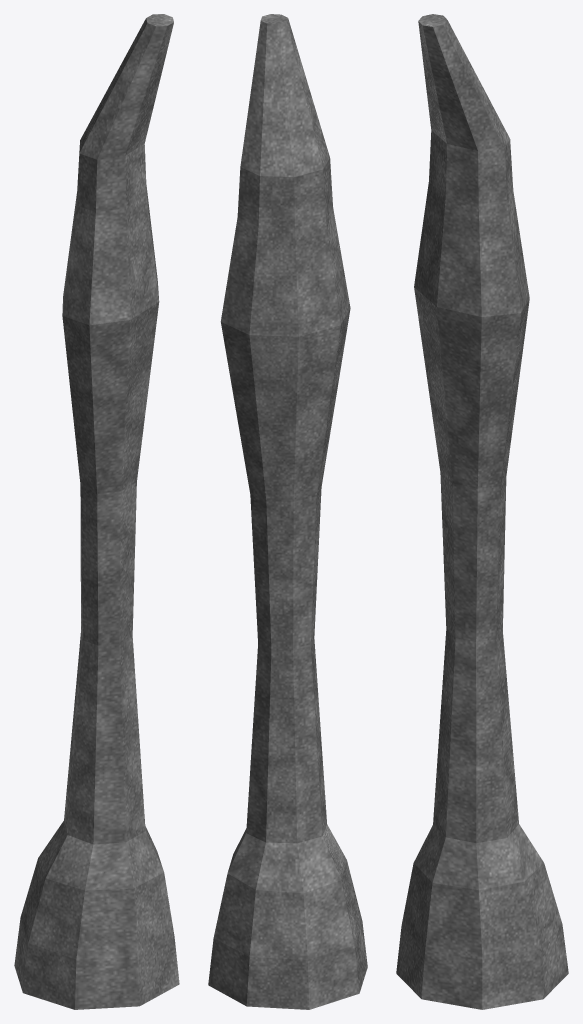
The model's file is spike individual var 7.fbx.
3 views of the same model, side by side, from view 1: azimuth 30°, elevation 25°; view 2: azimuth 150°, elevation 25°; view 3: azimuth 270°, elevation 25° (orthographic). The views are drawn at different scales.
Visible parts, largest first — view 1: spike individual var 7; view 2: spike individual var 7; view 3: spike individual var 7.
Boxes of the visible parts, x1,y1,x2,y2 form: spike individual var 7: (14, 14, 179, 1009); spike individual var 7: (208, 14, 367, 1009); spike individual var 7: (396, 14, 568, 1009).
Size of the model in its own units: 231 by 1435 by 231.
